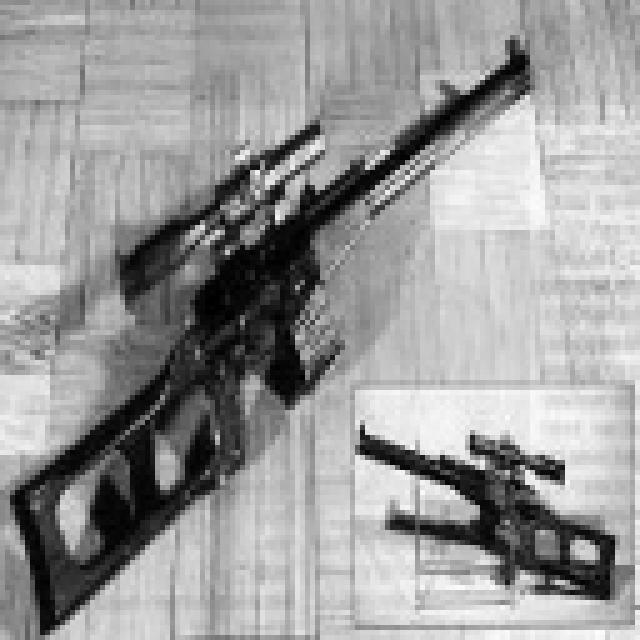Rifle: (0, 0, 545, 630), (345, 380, 640, 640)
